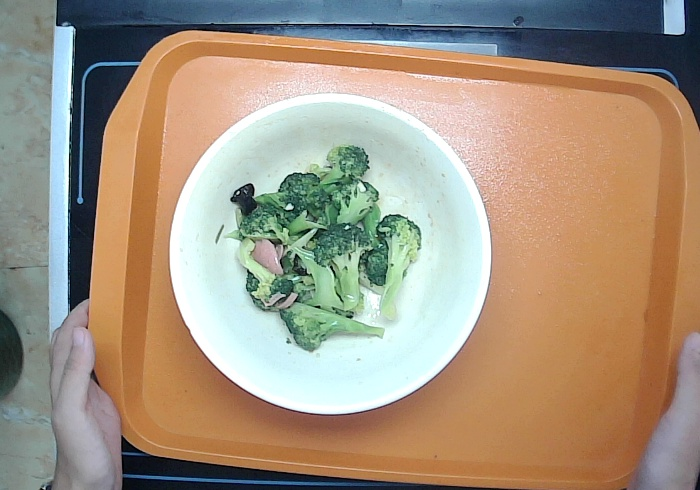ZNLD-Da_Tang_Wan: (167, 89, 494, 417)
